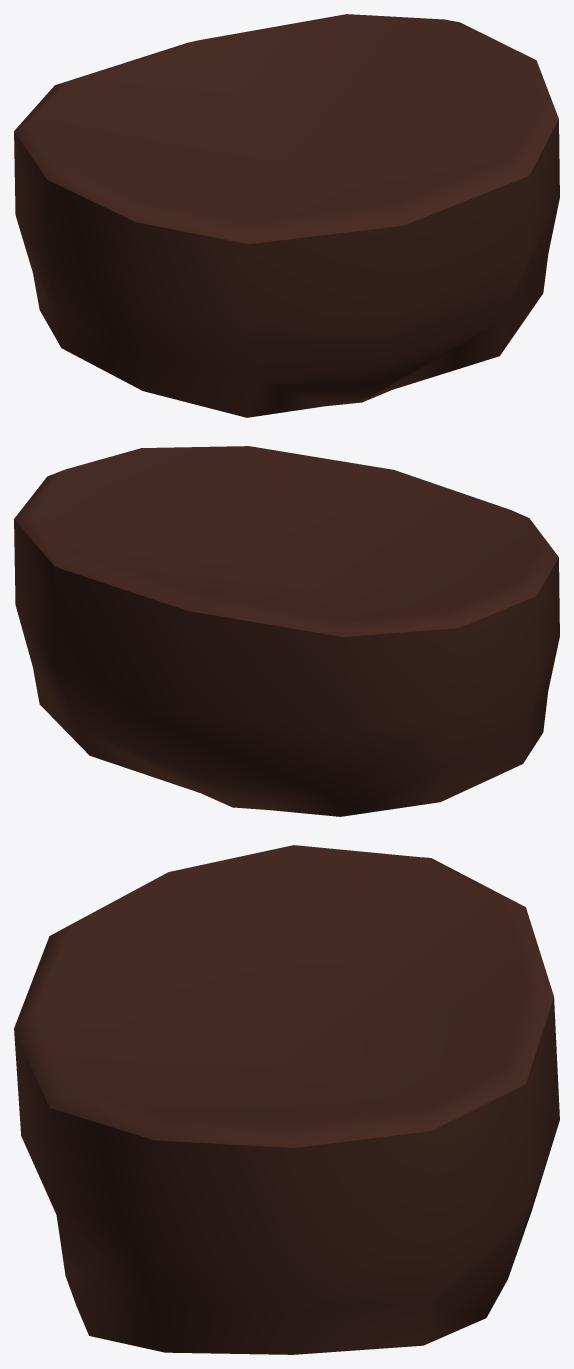
The model's file is Legs_63.fbx.
3 renders of one model, top to bottom at view 1: azimuth 30°, elevation 25°; view 2: azimuth 150°, elevation 25°; view 3: azimuth 270°, elevation 25°, orthographic. The views are drawn at different scales.
Parts seen in each view (by area): view 1: Legs_63; view 2: Legs_63; view 3: Legs_63.
Boxes of the visible parts, bbox=[...] form: Legs_63: bbox=[14, 14, 559, 417]; Legs_63: bbox=[14, 446, 559, 816]; Legs_63: bbox=[14, 845, 559, 1354].
Bounding box in the file's own units: 38.53 × 18.35 × 29.68.
